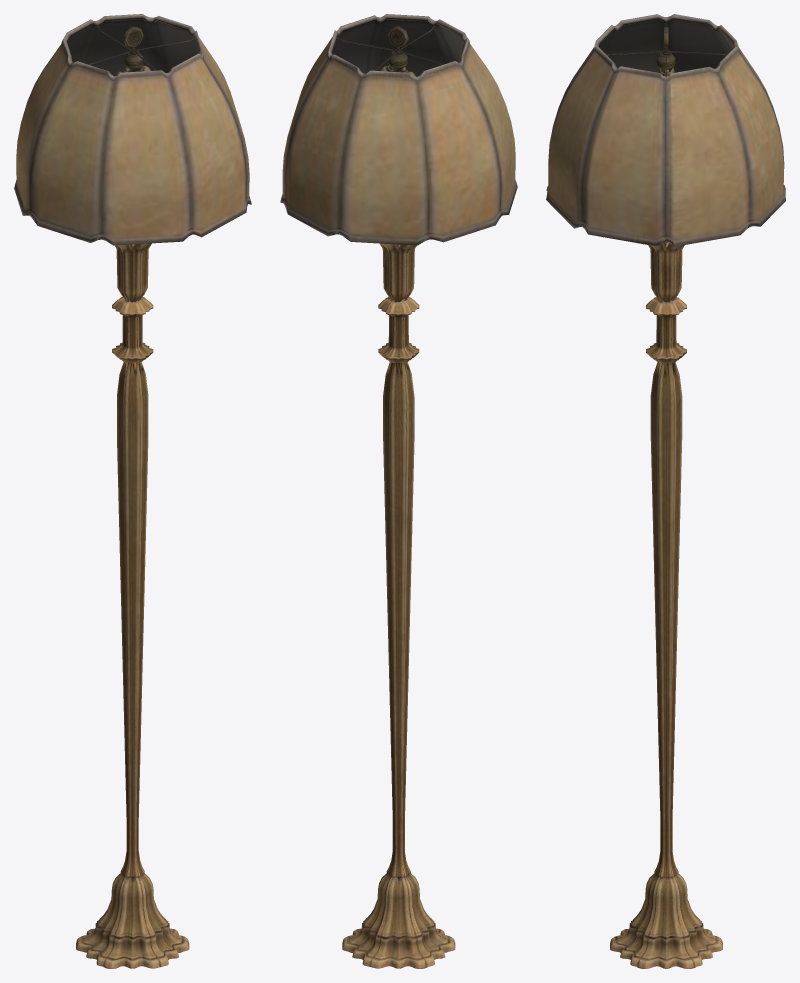
The model's file is floor-lamp-b.glb.
The picture shows the model from 3 angles, left to right: view 1: azimuth 30°, elevation 25°; view 2: azimuth 150°, elevation 25°; view 3: azimuth 270°, elevation 25°; orthographic projection.
Parts seen in each view (by area): view 1: Object_12; view 2: Object_12; view 3: Object_12.
Boxes of the visible parts, bbox=[...] form: Object_12: bbox=[14, 14, 251, 968]; Object_12: bbox=[280, 14, 517, 968]; Object_12: bbox=[546, 14, 785, 968].
Bounding box in the file's own units: 0.3836 × 1.62 × 0.382.
Materials: 1 (1 with a texture image).
